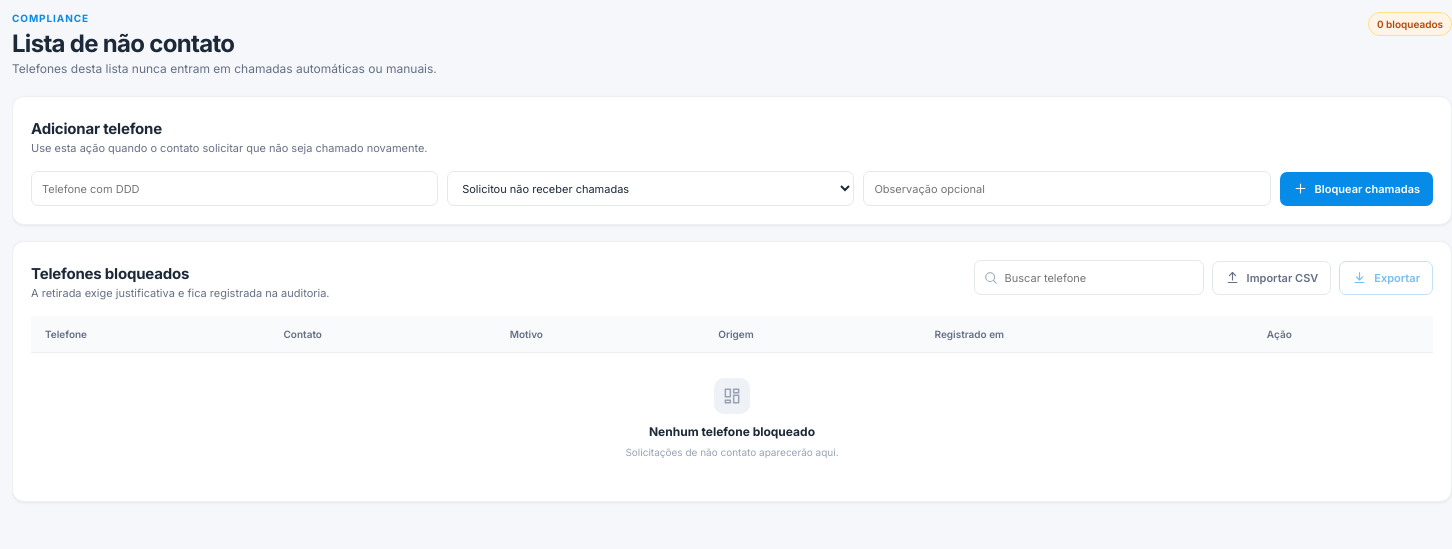
Scenario: creates and then renders a canonical suppression
This screenshot has width=1452, height=549.
Check: the text "Nenhum telefone bloqueado" is shown, box 649,424 -> 815,439
In the field with placeholder "Telefone com DDD": [235, 188] box 31,171 -> 438,206, type "5511999999999"
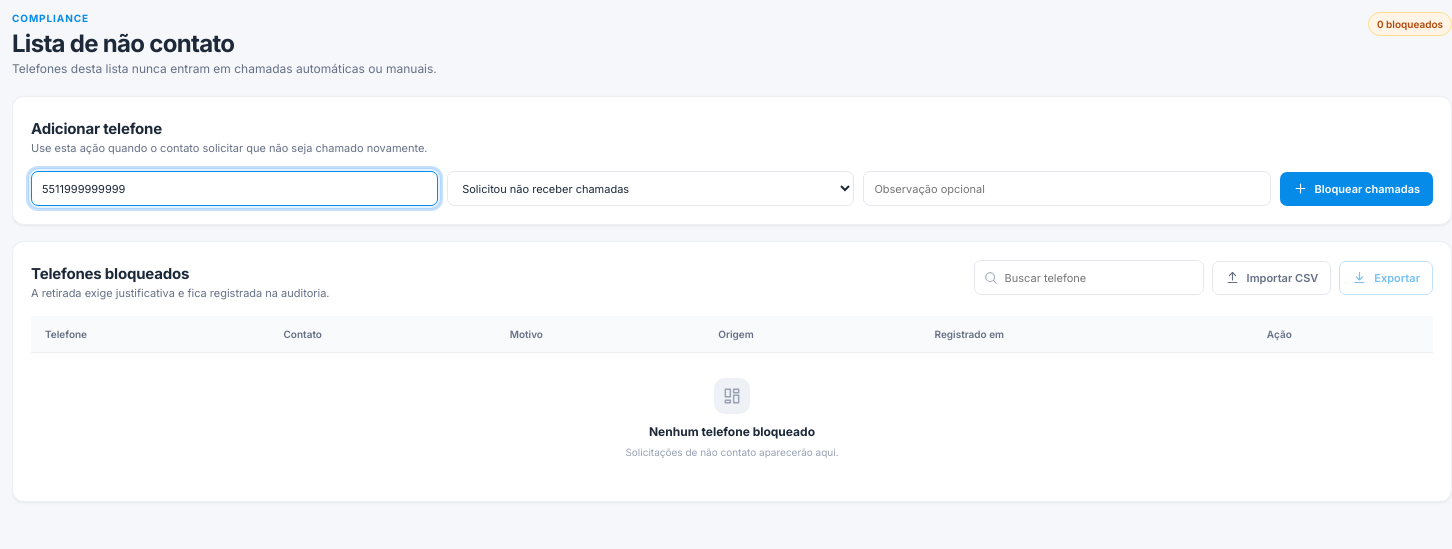
Click the button "Bloquear chamadas": [1356, 188] box 1280,172 -> 1433,206
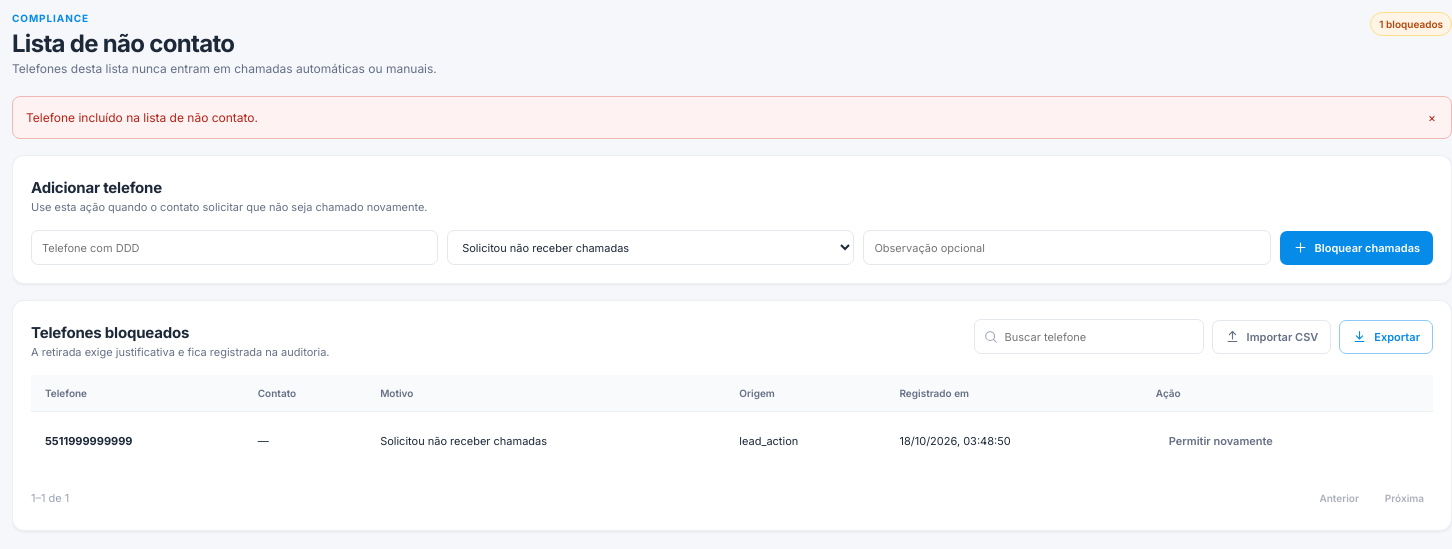
Check: the text "5511999999999" is shown, box 45,434 -> 132,448
